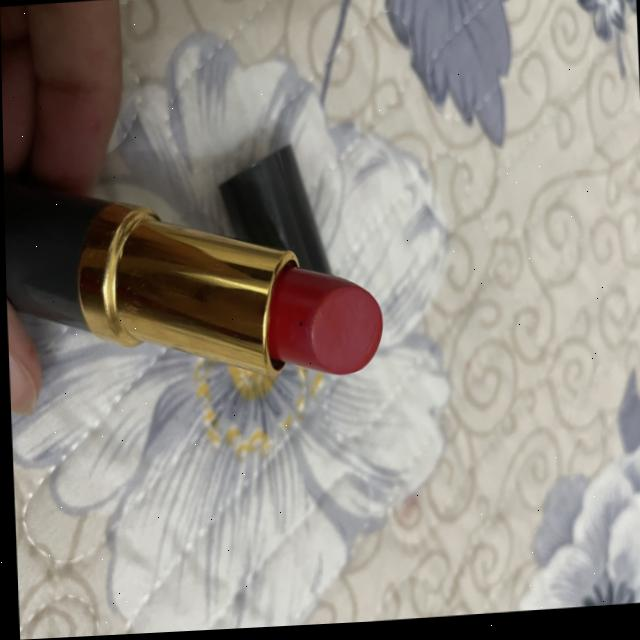lip stick: (3, 143, 405, 418)
